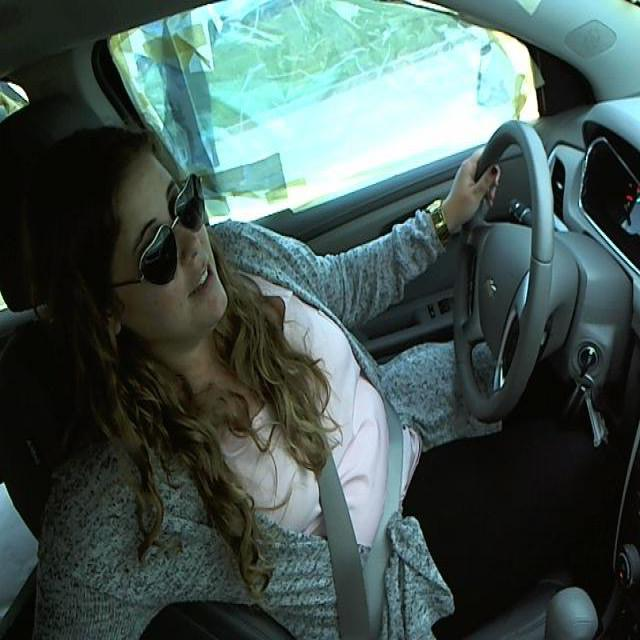seatbelt: (296, 388, 396, 628)
